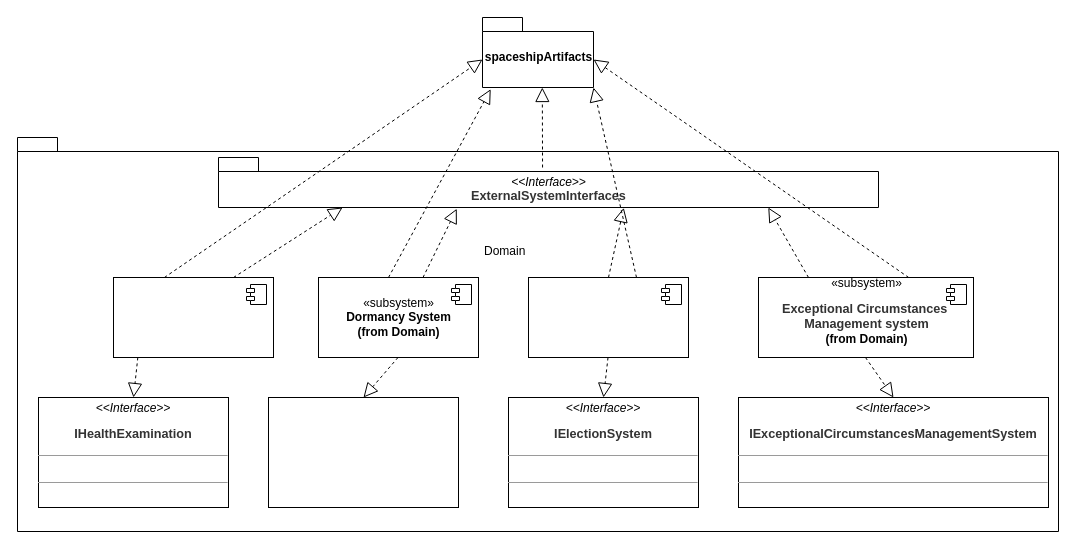
This 1076x549 diagram has some shape labels left out. Here are the shapes that lost their labels. From the top down, the box of each, then its label:
(112, 276, 274, 358): «subsystem» Health Examination (from Domain)
(528, 276, 688, 358): «subsystem» Election System (from Domain)
(268, 396, 458, 508): <<Interface>> IDormancySystem
